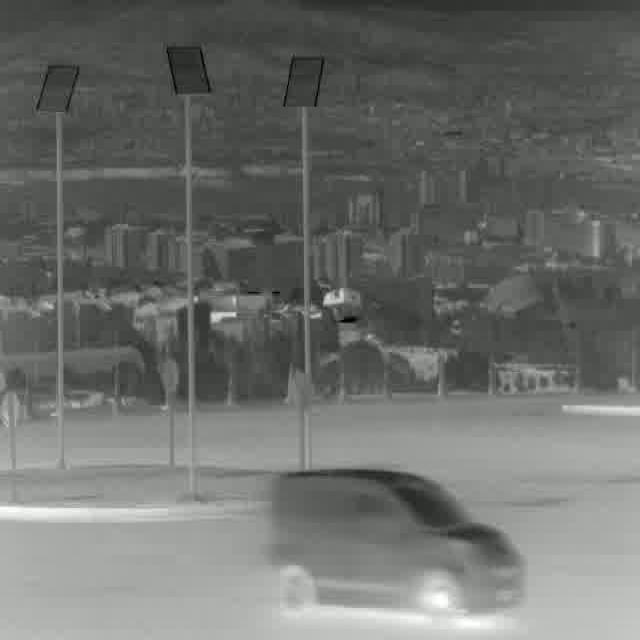Car: (269, 470, 523, 629)
